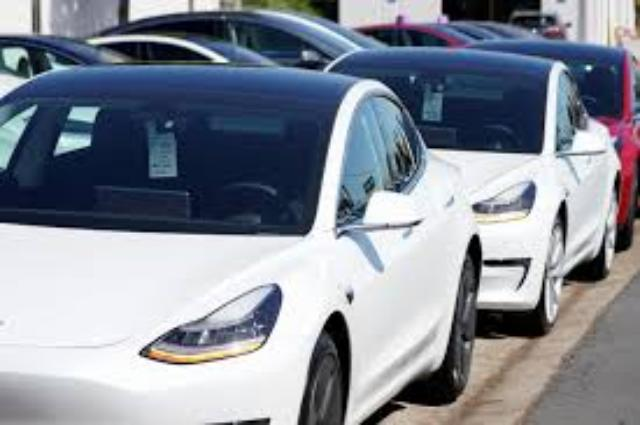tesla: (0, 64, 483, 425), (322, 48, 622, 332)
